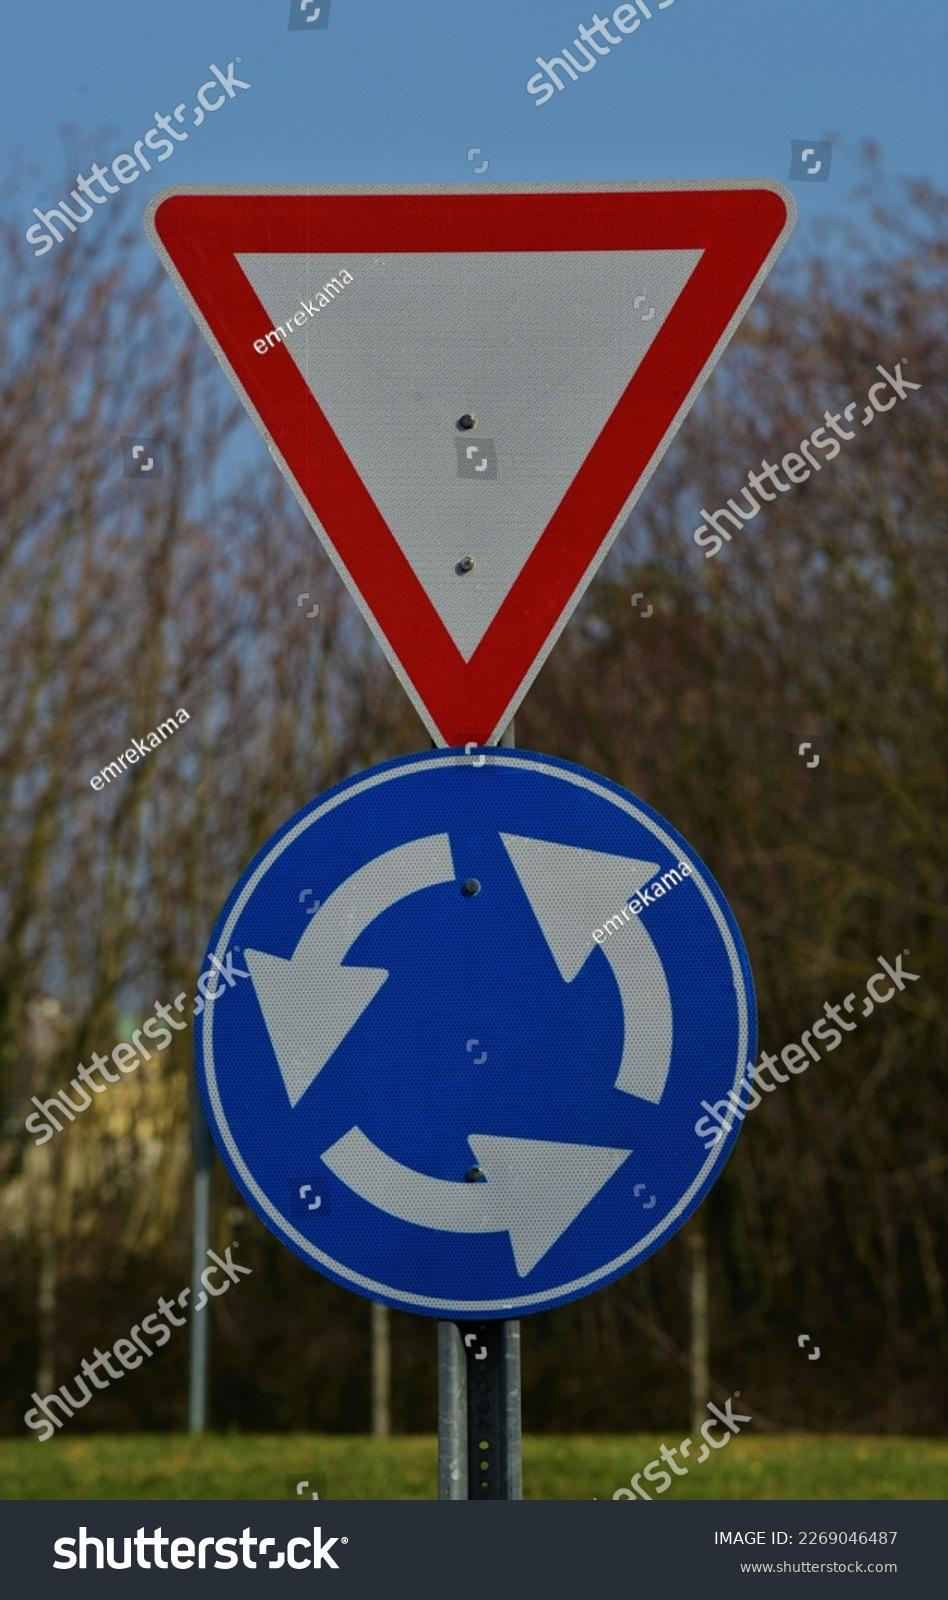Give Way: (97, 124, 892, 746)
